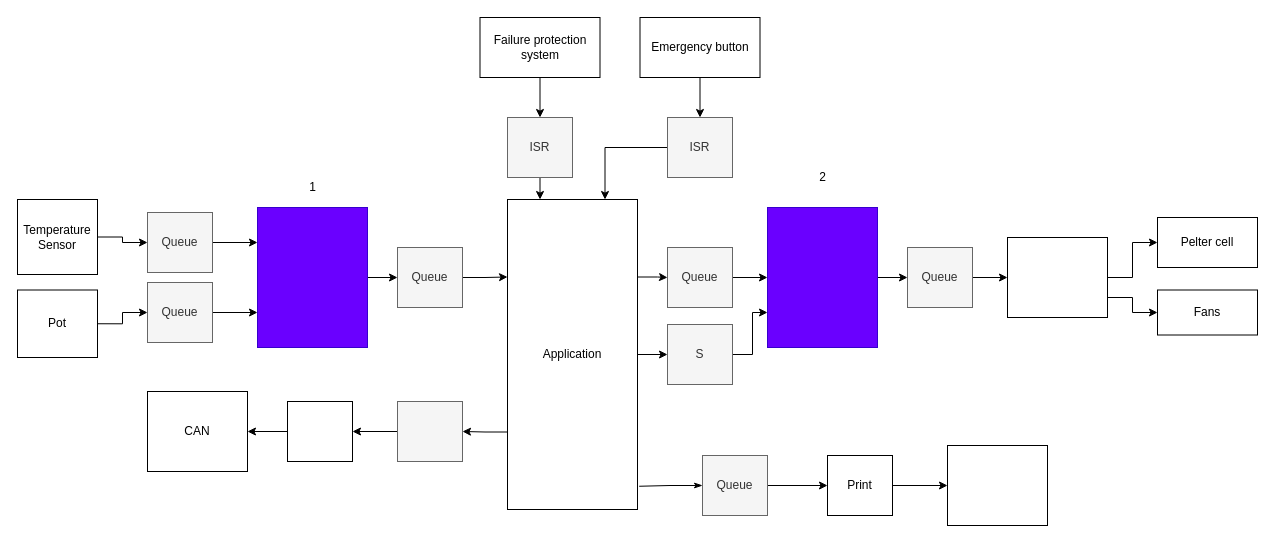
The diagram is 1275 pixels wide and 543 high, and some of its shapes have lost their labels. Here are the shapes that lost their labels. From the top down, the centre of each, then its label:
the point at 312,277: Process input task
the point at 822,277: Process outputs task
the point at 1057,277: PID
the point at 319,431: Send
the point at 429,431: Stream buffer
the point at 997,485: LCD
